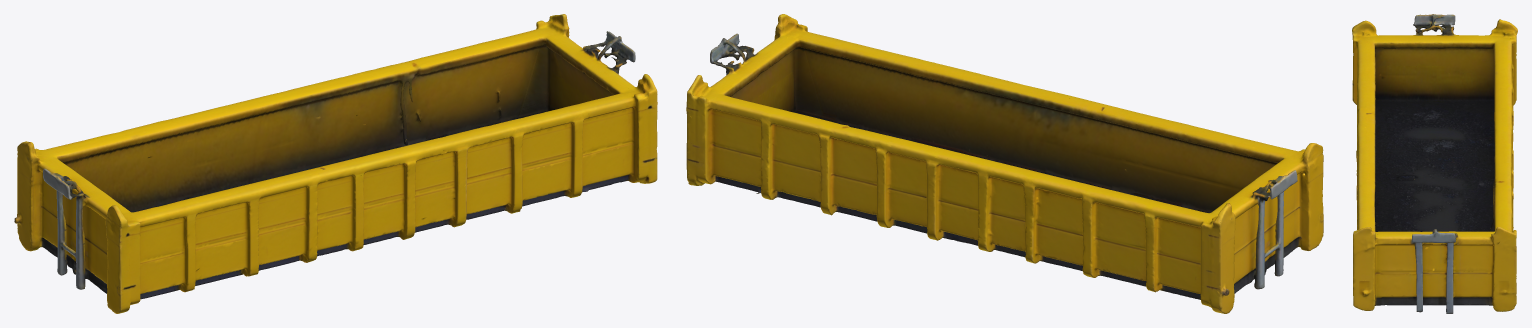
The model's file is Meshy_AI_Rust_and_Yellow_at_an_0513055838_texture.fbx.
3 renders of one model, left to right at view 1: azimuth 30°, elevation 25°; view 2: azimuth 150°, elevation 25°; view 3: azimuth 270°, elevation 25°, orthographic. The views are drawn at different scales.
Visible parts, largest first — view 1: Mesh_0; view 2: Mesh_0; view 3: Mesh_0.
Part boxes in pixels (x1,y1,x2,y2): Mesh_0: (14,14,657,313); Mesh_0: (686,14,1323,313); Mesh_0: (1352,14,1517,313).
Size of the model in its own units: 200 by 38.34 by 64.
1 material, 1 textured.
